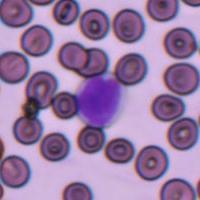L: (74, 73, 128, 128)
